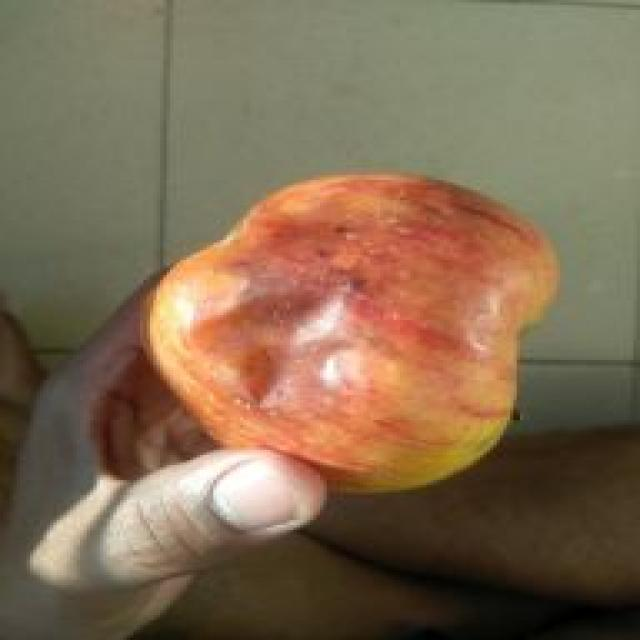Bad_Apple: (148, 175, 557, 491)
